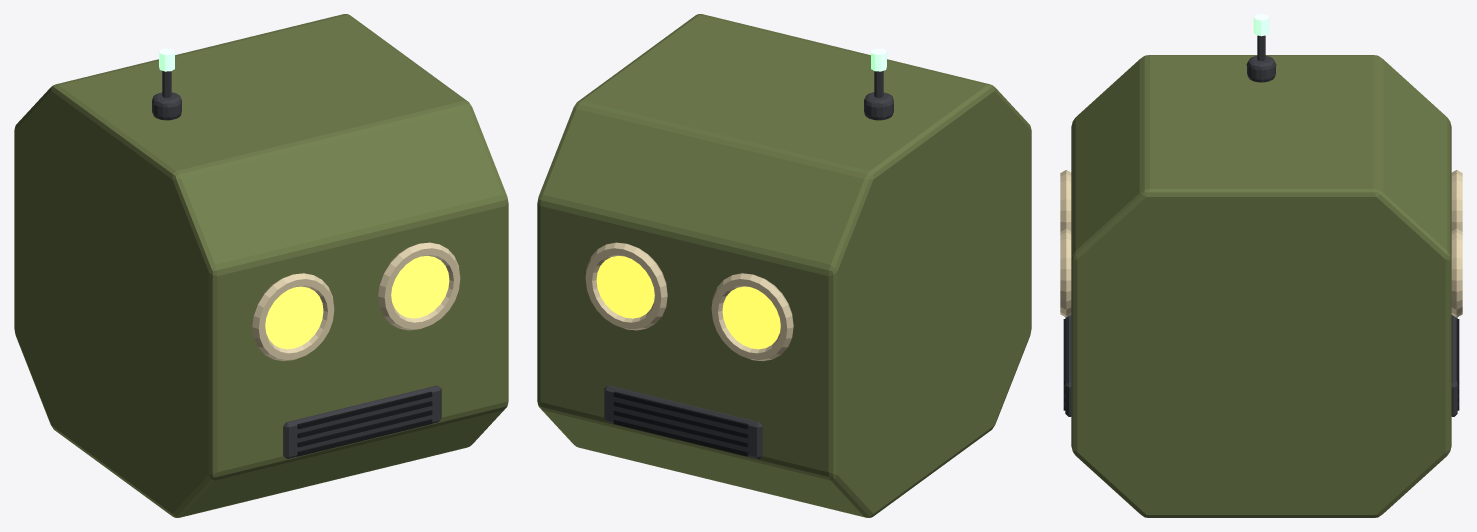
File: cargo-pen.glb
The picture shows the model from 3 angles, left to right: view 1: azimuth 30°, elevation 25°; view 2: azimuth 150°, elevation 25°; view 3: azimuth 270°, elevation 25°; orthographic projection. The views are drawn at different scales.
Visible parts, largest first — view 1: cargo_pen body; view 2: cargo_pen body; view 3: cargo_pen body.
Part boxes in pixels (x1,y1,x2,y2): cargo_pen body: (14,14,508,517); cargo_pen body: (537,14,1031,517); cargo_pen body: (1060,35,1462,517).
Size of the model in its own units: 1.9 by 2.49 by 2.33.
